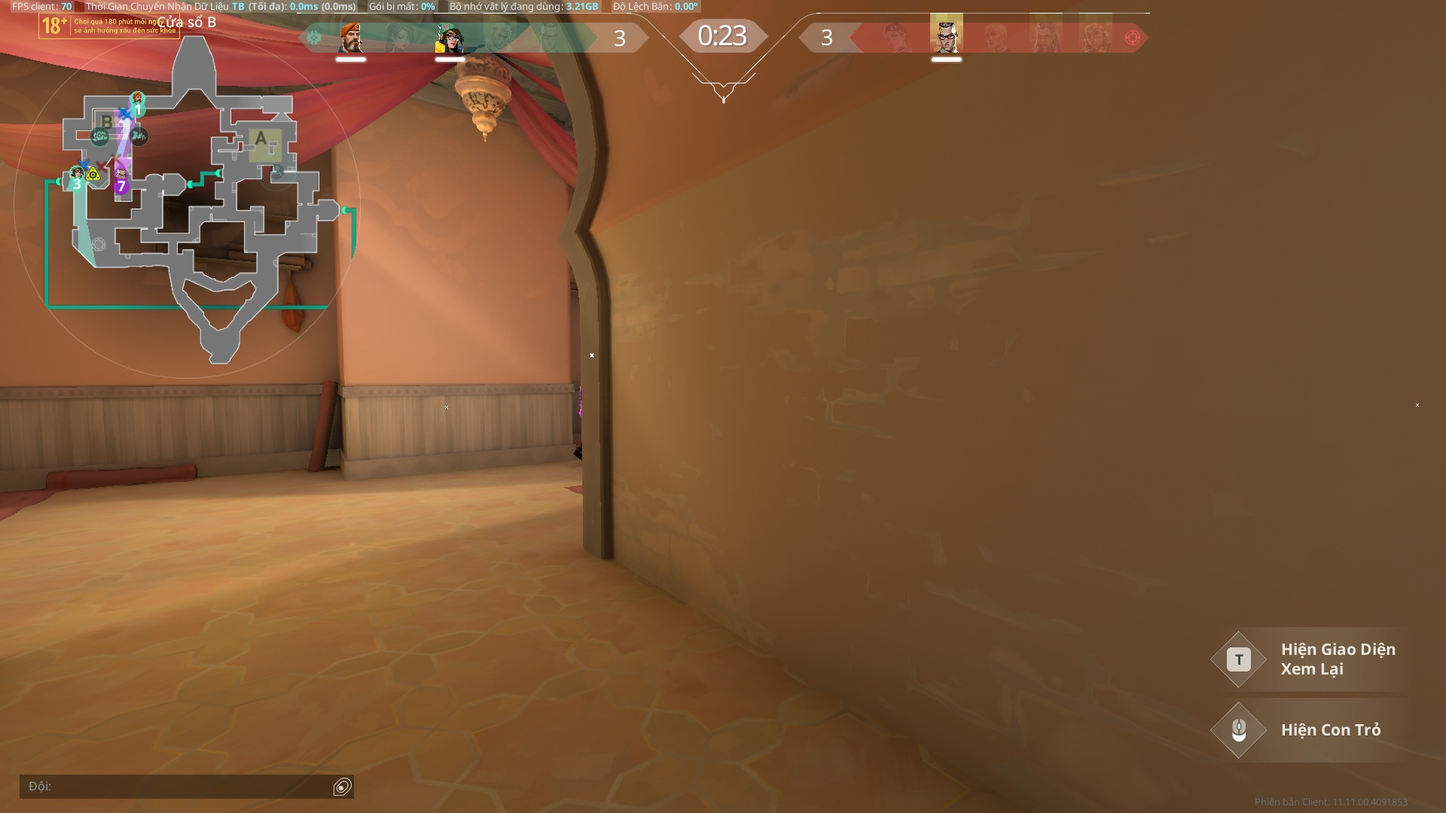body: (578, 384, 583, 416)
